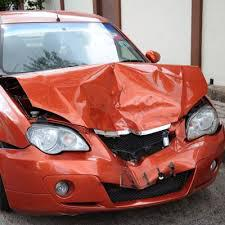bonnet-dent: (22, 54, 201, 127)
front-bumper-dent: (9, 143, 219, 204)
